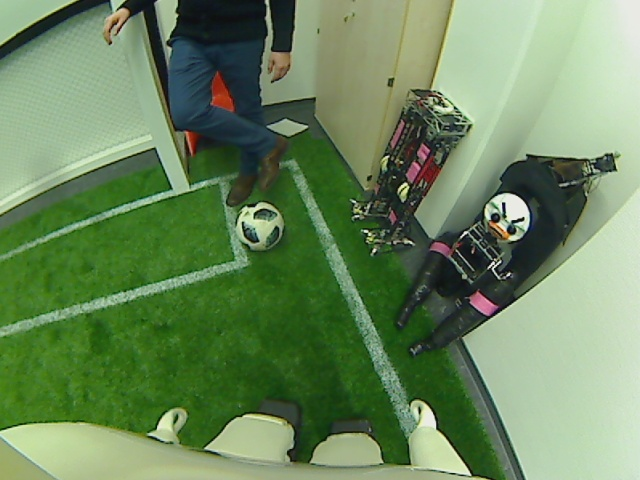ball: (236, 202, 285, 250)
